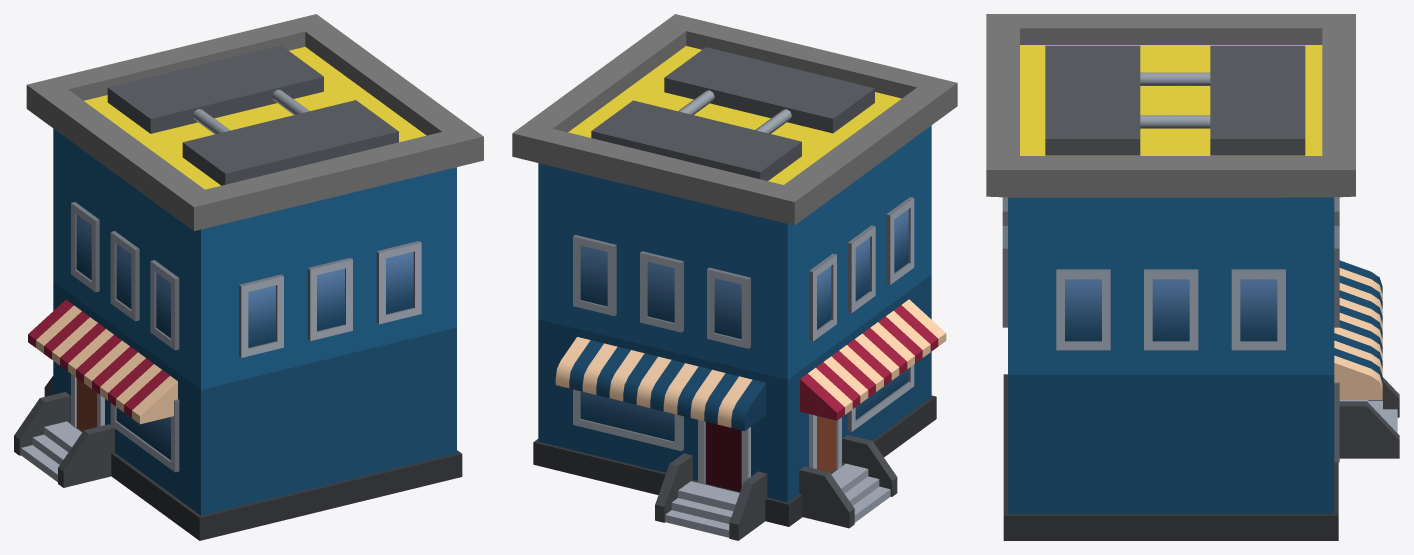
File: SM_Building_03.fbx
3 renders of one model, left to right at view 1: azimuth 30°, elevation 25°; view 2: azimuth 150°, elevation 25°; view 3: azimuth 270°, elevation 25°, orthographic. The views are drawn at different scales.
Visible parts, largest first — view 1: SM_Building_03_b, SM_Building_03_a; view 2: SM_Building_03_b, SM_Building_03_a; view 3: SM_Building_03_b, SM_Building_03_a.
Boxes of the visible parts, <box> form: SM_Building_03_b: <box>26,14,483,389</box>; SM_Building_03_a: <box>14,282,462,540</box>; SM_Building_03_b: <box>512,14,957,379</box>; SM_Building_03_a: <box>533,275,946,540</box>; SM_Building_03_b: <box>986,14,1355,374</box>; SM_Building_03_a: <box>1003,260,1399,540</box>.
Size of the model in its own units: 38 by 38.39 by 38.
1 material, 1 textured.
